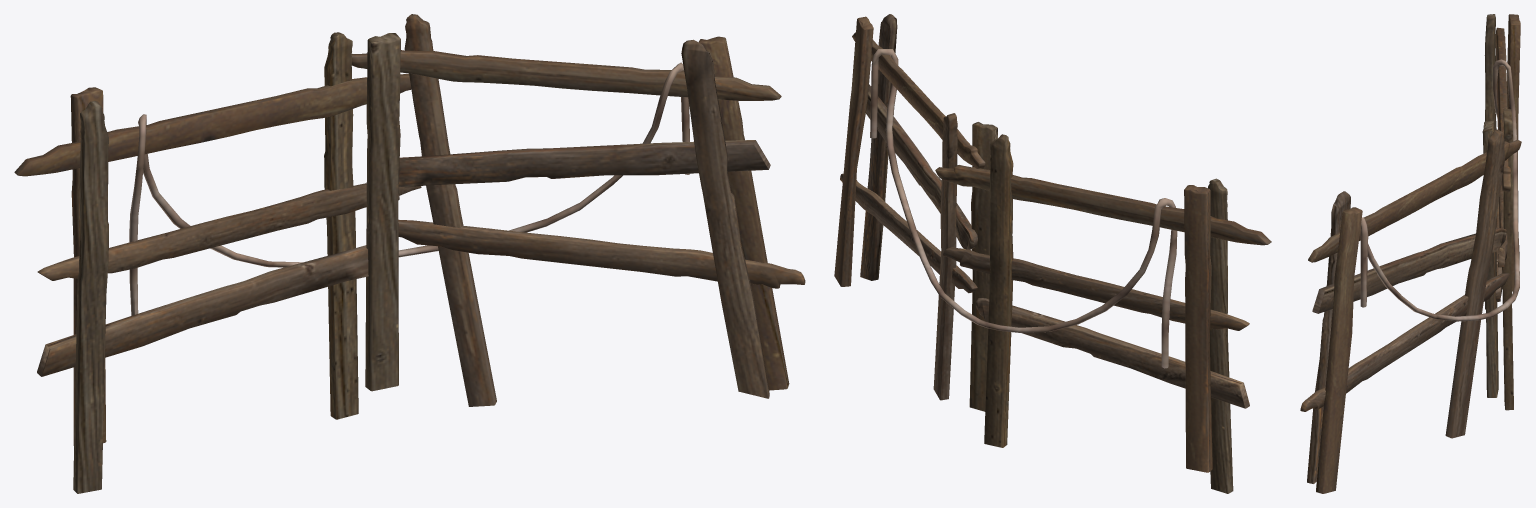
The model's file is SM_FAR_WoodFence_02.fbx.
3 views of the same model, side by side, from view 1: azimuth 30°, elevation 25°; view 2: azimuth 150°, elevation 25°; view 3: azimuth 270°, elevation 25° (orthographic). The views are drawn at different scales.
Visible parts, largest first — view 1: SM_FAR_WoodFence_02.mo; view 2: SM_FAR_WoodFence_02.mo; view 3: SM_FAR_WoodFence_02.mo.
Part boxes in pixels (x1,y1,x2,y2): SM_FAR_WoodFence_02.mo: (14, 14, 805, 493); SM_FAR_WoodFence_02.mo: (834, 14, 1271, 493); SM_FAR_WoodFence_02.mo: (1300, 14, 1521, 493).
Bounding box in the file's own units: 410 × 235 × 156.
